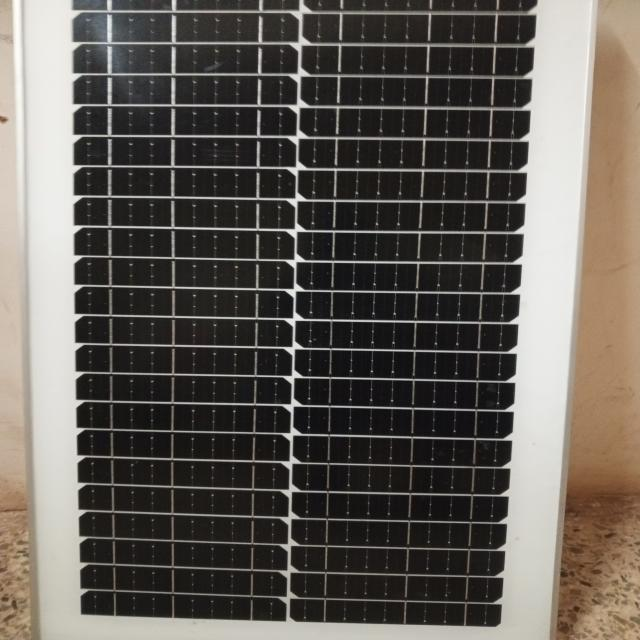Clean: (53, 0, 551, 625)
